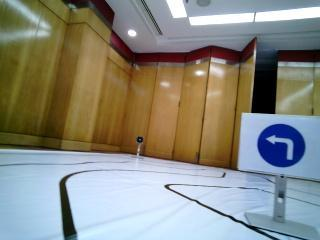left: (247, 117, 315, 172)
